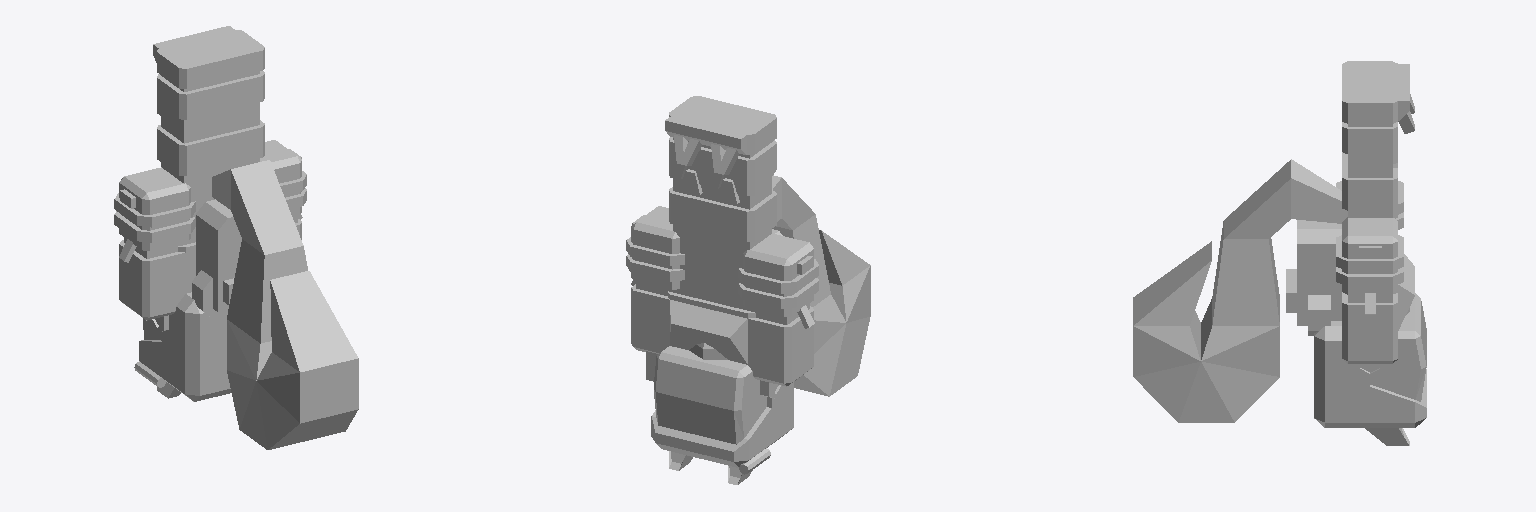
File: envsuit.obj
3 views of the same model, side by side, from view 1: azimuth 30°, elevation 25°; view 2: azimuth 150°, elevation 25°; view 3: azimuth 270°, elevation 25° (orthographic).
Visible parts, largest first — view 1: Tail, RightArm, Helmet, RightLeg, Chest, LeftLeg, RightFoot, LeftFoot, LeftArm; view 2: Helmet, RightArm, Tail, Chest, LeftArm, RightLeg, LeftLeg, RightFoot, LeftFoot; view 3: Tail, Helmet, LeftArm, Chest, LeftLeg, LeftFoot, RightFoot.
Boxes of the visible parts, box(x1,y1,x2,y2) form: Tail: box(212, 160, 358, 449); RightArm: box(114, 168, 195, 320); Helmet: box(134, 292, 230, 401); RightLeg: box(157, 74, 227, 183); Chest: box(161, 167, 241, 318); LeftLeg: box(217, 71, 264, 172); RightFoot: box(153, 35, 227, 88); LeftFoot: box(191, 26, 264, 79); LeftArm: box(260, 140, 306, 239); Helmet: box(646, 346, 793, 484); RightArm: box(738, 233, 818, 386); Tail: box(772, 175, 870, 396); Chest: box(668, 229, 782, 364); LeftArm: box(626, 206, 684, 353); RightLeg: box(706, 140, 776, 252); LeftLeg: box(669, 137, 715, 246); RightFoot: box(702, 105, 776, 174); LeftFoot: box(665, 96, 737, 165); Tail: box(1133, 159, 1347, 422); Helmet: box(1314, 293, 1426, 445); LeftArm: box(1336, 217, 1403, 363); Chest: box(1286, 220, 1414, 335); LeftLeg: box(1342, 122, 1397, 217); LeftFoot: box(1342, 80, 1414, 133); RightFoot: box(1342, 61, 1414, 113).
Bounding box in the file's own units: 19.21 × 35.65 × 27.3.